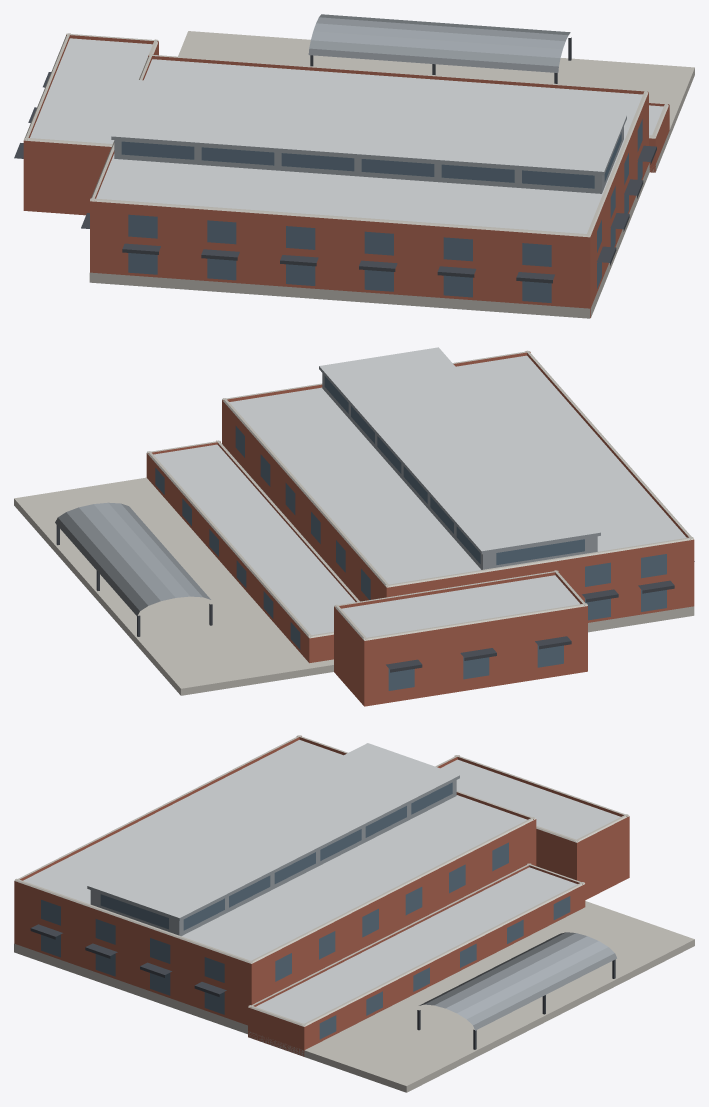
3 renders of one model, top to bottom at view 1: azimuth 30°, elevation 25°; view 2: azimuth 150°, elevation 25°; view 3: azimuth 270°, elevation 25°, orthographic. The views are drawn at different scales.
Parts seen in each view (by area): view 1: 701-keswick-avenue; view 2: 701-keswick-avenue; view 3: 701-keswick-avenue.
Boxes of the visible parts, x1,y1,x2,y2 form: 701-keswick-avenue: [14, 14, 694, 318]; 701-keswick-avenue: [14, 347, 694, 706]; 701-keswick-avenue: [14, 735, 694, 1092].
Bounding box in the file's own units: 82.97 × 12.2 × 83.53.
